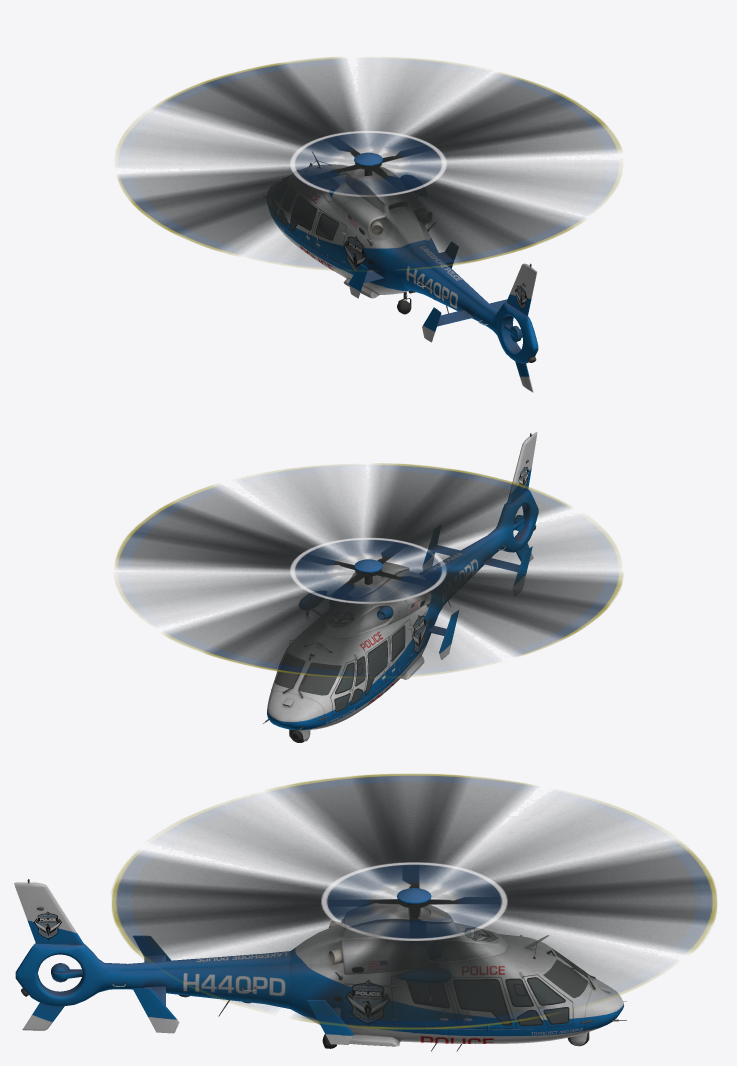
The model's file is heli.glb.
3 views of the same model, one above another, from view 1: azimuth 30°, elevation 25°; view 2: azimuth 150°, elevation 25°; view 3: azimuth 270°, elevation 25° (orthographic). The views are drawn at different scales.
Parts seen in each view (by area): view 1: Empty; view 2: Empty; view 3: Empty.
Part boxes in pixels (<box>): Empty: <box>116,57,621,392</box>; Empty: <box>115,432,623,742</box>; Empty: <box>14,774,716,1051</box>.
Bounding box in the file's own units: 2.27 × 0.6858 × 2.61.
2 materials, 2 textured.
